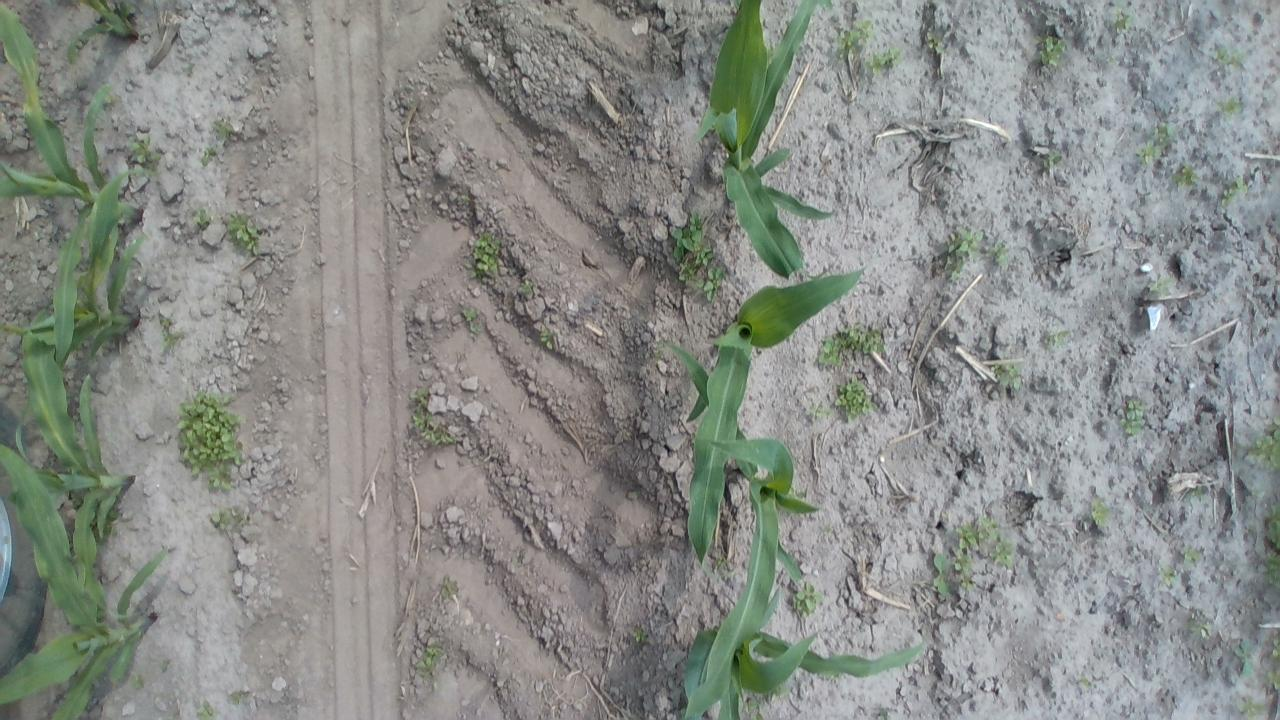Maize: (658, 338, 829, 714), (682, 251, 874, 553), (0, 403, 164, 718), (0, 1, 134, 382), (12, 330, 142, 638), (698, 0, 838, 273), (682, 604, 922, 714)
Weeds: (2, 172, 160, 426), (176, 389, 245, 494), (670, 212, 726, 304), (815, 320, 889, 368), (406, 389, 462, 446), (942, 224, 983, 276), (930, 552, 976, 598), (223, 212, 264, 256), (832, 378, 874, 420), (466, 231, 502, 278), (1138, 120, 1173, 164), (834, 17, 873, 56), (954, 518, 990, 560), (1250, 419, 1276, 470), (1037, 34, 1069, 69), (792, 582, 824, 616), (129, 137, 160, 172), (969, 515, 1000, 549), (1120, 397, 1146, 437), (211, 505, 248, 532), (1220, 174, 1251, 206), (989, 362, 1025, 389), (414, 642, 444, 674), (1234, 638, 1258, 678), (1212, 46, 1246, 74), (868, 46, 898, 76), (1145, 271, 1176, 298), (158, 316, 184, 348), (1262, 532, 1276, 588), (1172, 162, 1202, 188), (1186, 611, 1212, 641), (989, 538, 1016, 566), (1234, 697, 1268, 718), (460, 306, 482, 338), (1214, 96, 1244, 119), (1110, 8, 1134, 35), (1087, 498, 1110, 526), (1262, 503, 1276, 548), (436, 572, 460, 598), (988, 243, 1012, 268), (536, 328, 561, 352), (212, 116, 235, 141), (1046, 326, 1070, 348), (1184, 485, 1209, 506), (1039, 150, 1065, 170), (200, 143, 222, 166), (926, 29, 946, 53), (517, 276, 538, 298), (649, 340, 668, 364), (192, 208, 212, 230), (196, 700, 220, 718), (747, 698, 767, 718), (714, 557, 735, 576), (1158, 566, 1180, 584), (509, 548, 527, 570), (227, 689, 250, 706), (770, 683, 790, 702), (129, 670, 147, 691), (1182, 546, 1203, 564), (1262, 666, 1276, 692), (807, 402, 827, 420), (632, 626, 648, 644), (102, 93, 120, 108), (426, 679, 444, 693), (1078, 674, 1092, 690), (182, 61, 195, 78)
